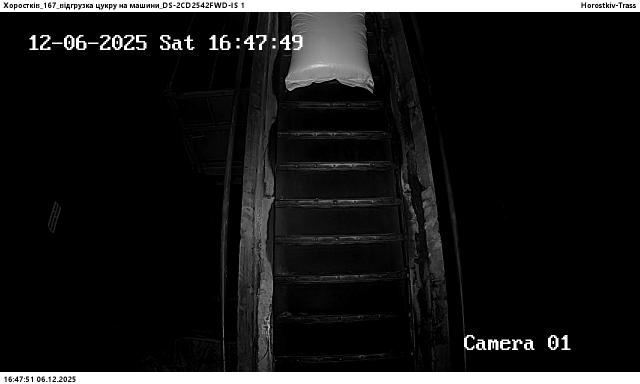bag: (286, 12, 374, 92)
